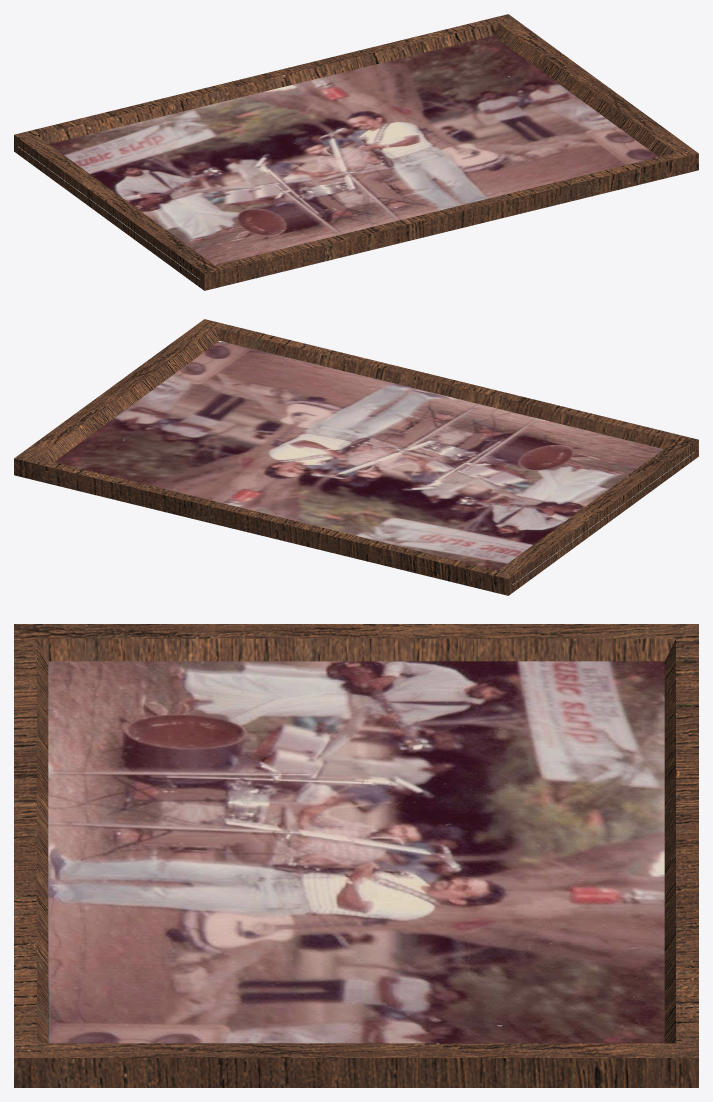
3 renders of one model, top to bottom at view 1: azimuth 30°, elevation 25°; view 2: azimuth 150°, elevation 25°; view 3: azimuth 270°, elevation 25°, orthographic. The views are drawn at different scales.
Parts seen in each view (by area): view 1: Plane, frame1(1); view 2: Plane, frame1(1); view 3: Plane, frame1(1).
Part boxes in pixels (x1,y1,x2,y2): Plane: (16, 36, 658, 281); frame1(1): (14, 14, 698, 290); Plane: (54, 341, 696, 586); frame1(1): (14, 319, 698, 595); Plane: (48, 661, 664, 1043); frame1(1): (14, 624, 698, 1087).
Size of the model in its own units: 13.18 by 0.4268 by 8.79.
2 materials, 2 textured.
